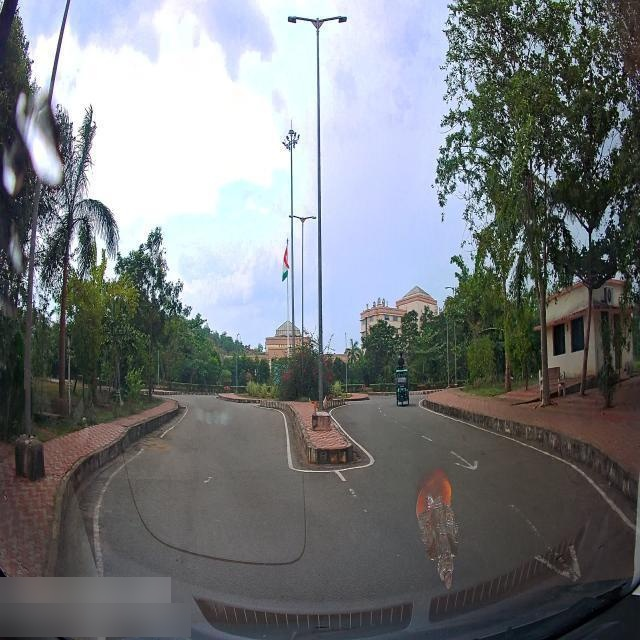pothole: (135, 440, 156, 456), (157, 428, 173, 446)
